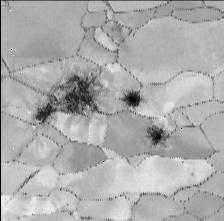good_void: (31, 71, 101, 125), (139, 119, 168, 146), (117, 87, 145, 112), (108, 21, 125, 45), (188, 169, 195, 178), (179, 158, 184, 165), (64, 201, 69, 207)
